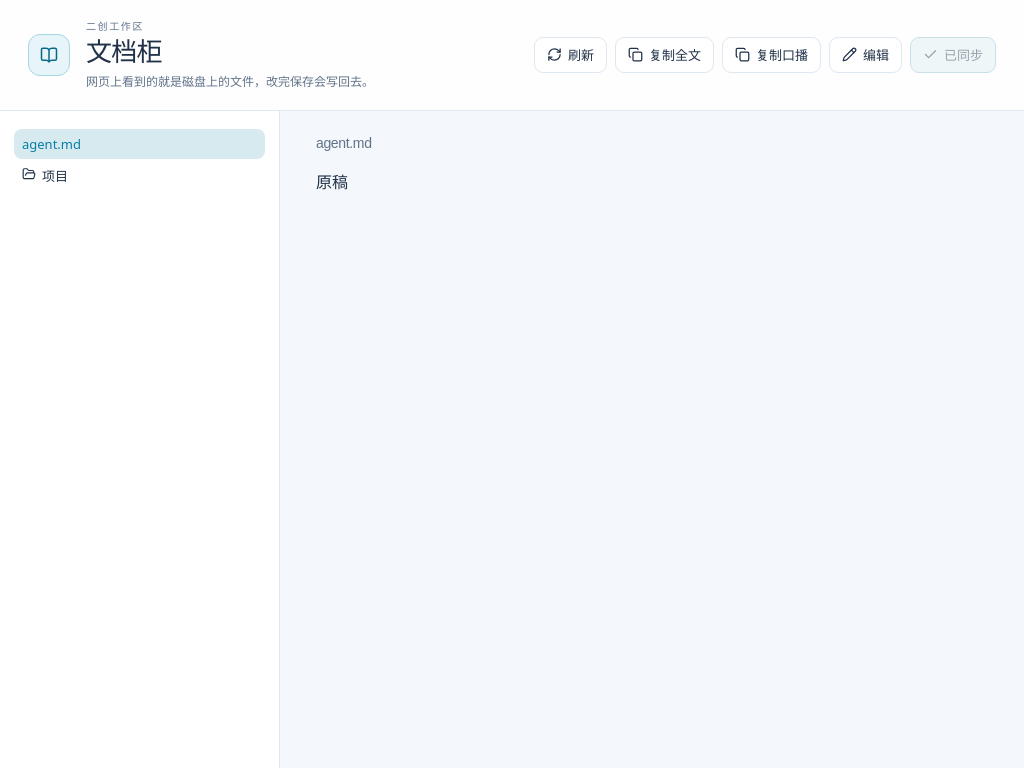
Scenario: keeps edits typed while a save is pending and prevents duplicate saves
The image size is (1024, 768).
Expected: the text "原稿" is shown, left=316, top=171, right=348, bottom=193
Step 1. Click the button "编辑" → coordinates (866, 55), box left=829, top=37, right=902, bottom=73
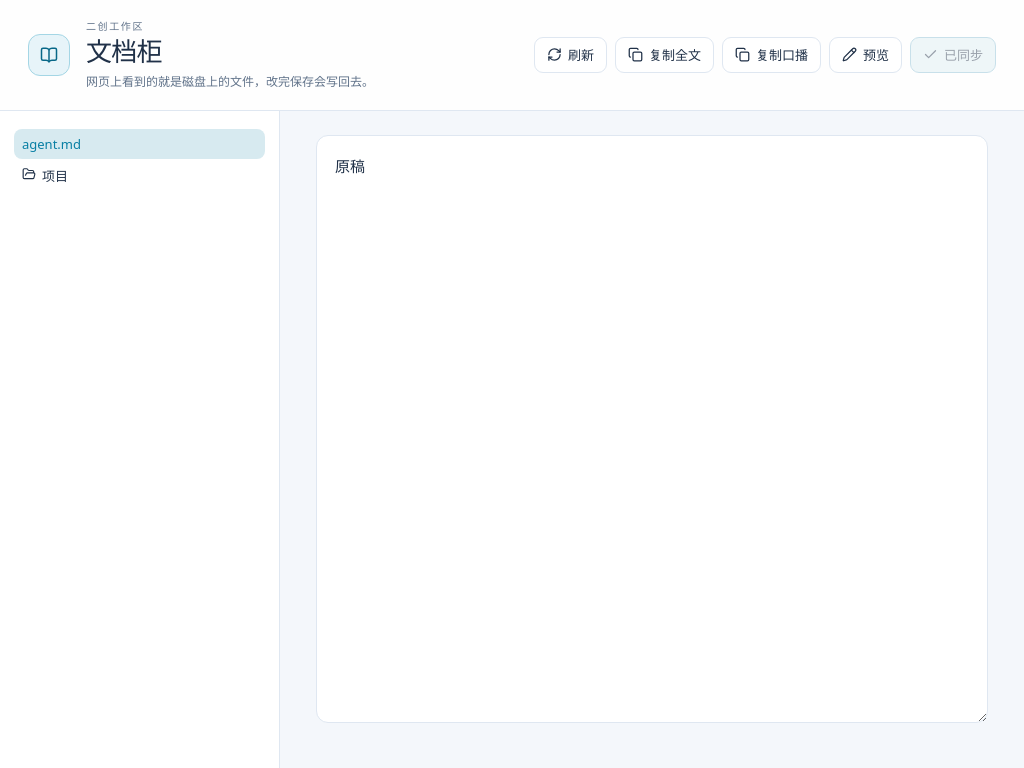
Step 2. Replace the text in the text box named "编辑文档" with "第一次修改" → coordinates (652, 429), box left=316, top=135, right=988, bottom=723
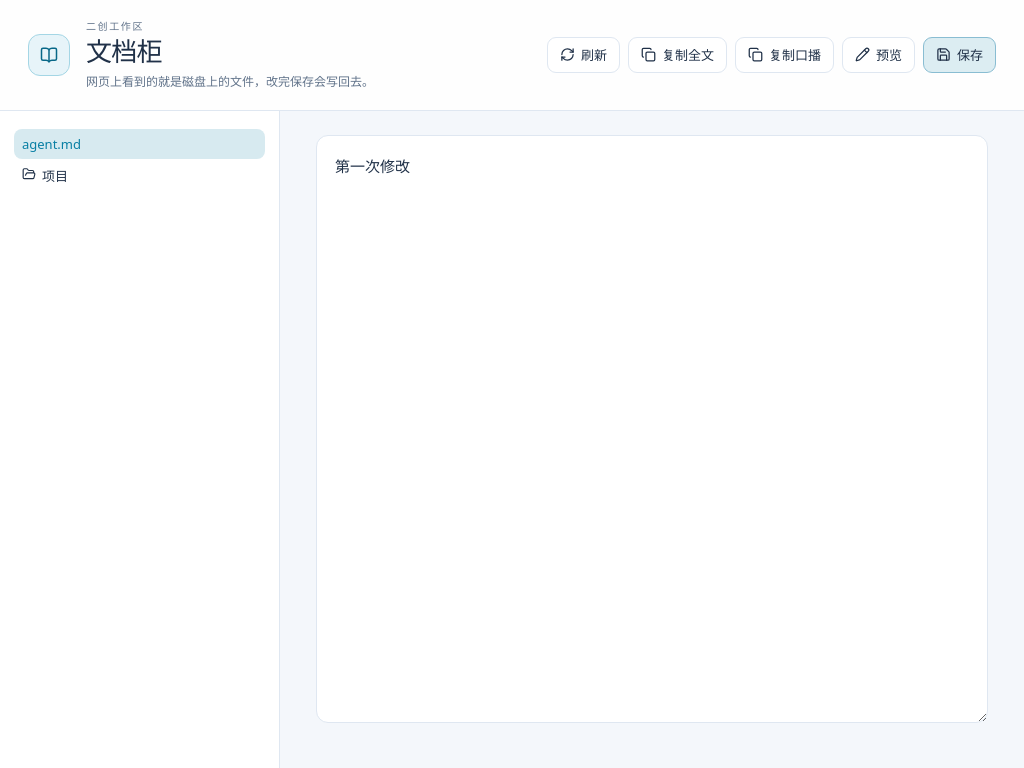
Step 3. Click the button "保存" → coordinates (960, 55), box left=923, top=37, right=996, bottom=73
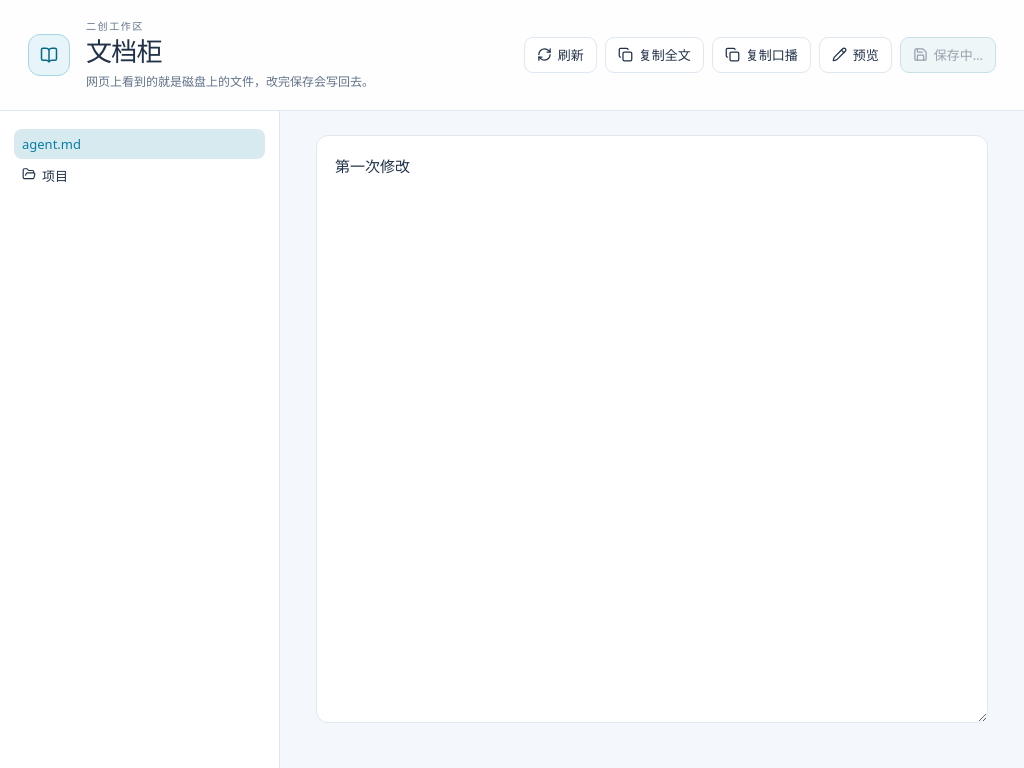
Step 4. Replace the text in the text box named "编辑文档" with "保存期间继续输入" → coordinates (652, 429), box left=316, top=135, right=988, bottom=723
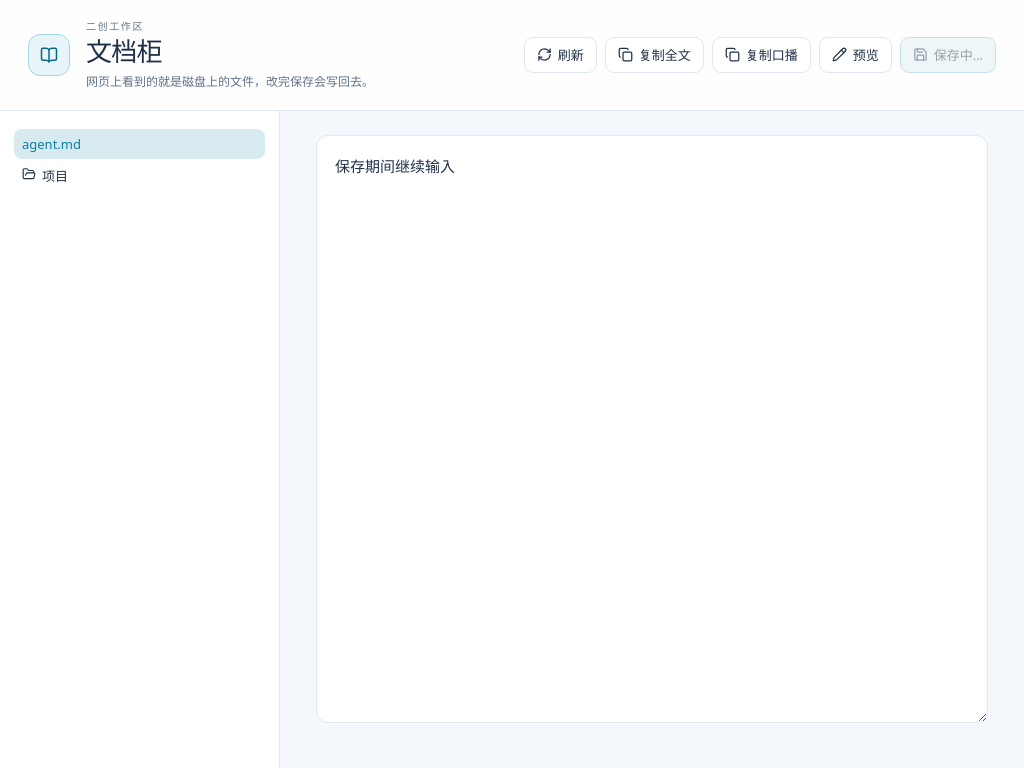
Step 5. Press s
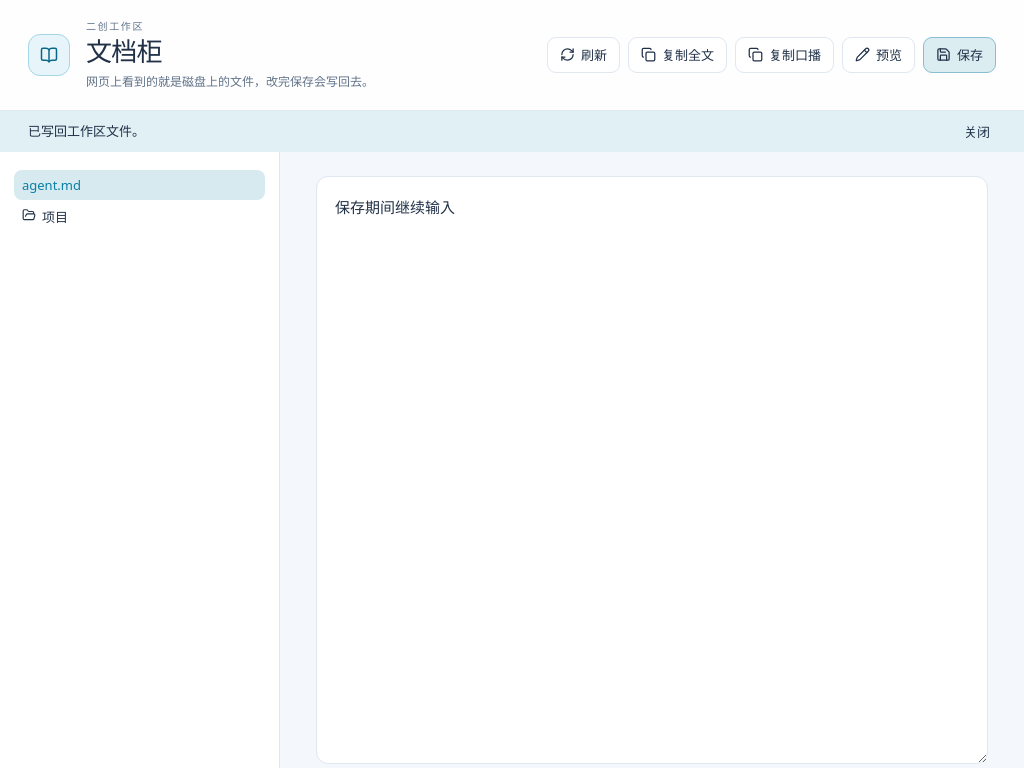
Expected: the button "保存" is enabled, left=923, top=37, right=996, bottom=73
